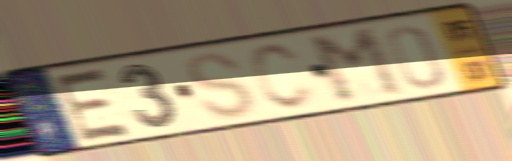0: (385, 22, 447, 91)
3: (118, 61, 178, 133)
C: (246, 41, 319, 112)
E: (50, 64, 136, 145)
M: (303, 24, 410, 107)
S: (182, 50, 257, 122)
